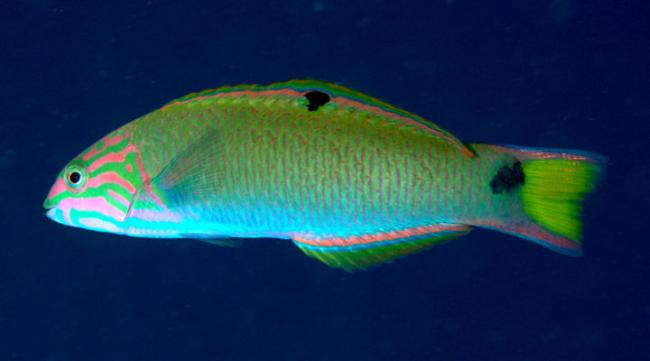fish: (42, 79, 611, 275)
